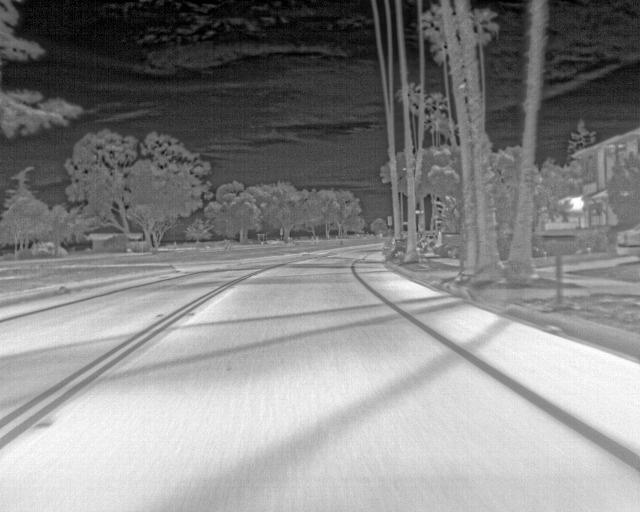car: (614, 222, 638, 258)
